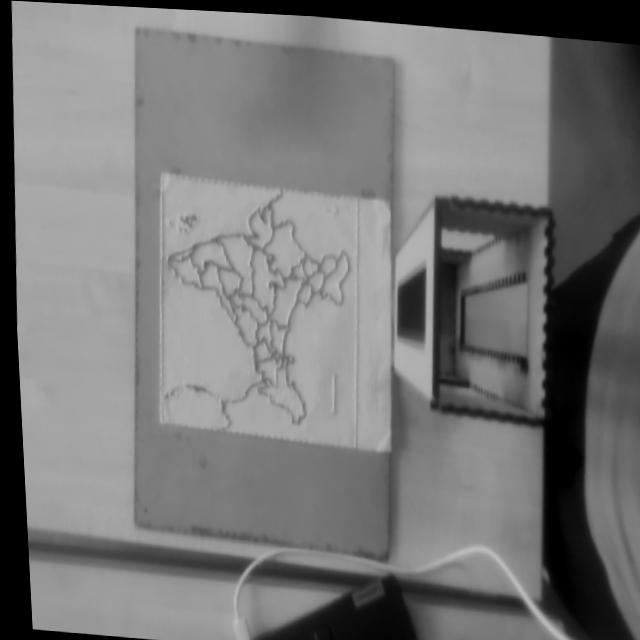map: (160, 172, 358, 449)
